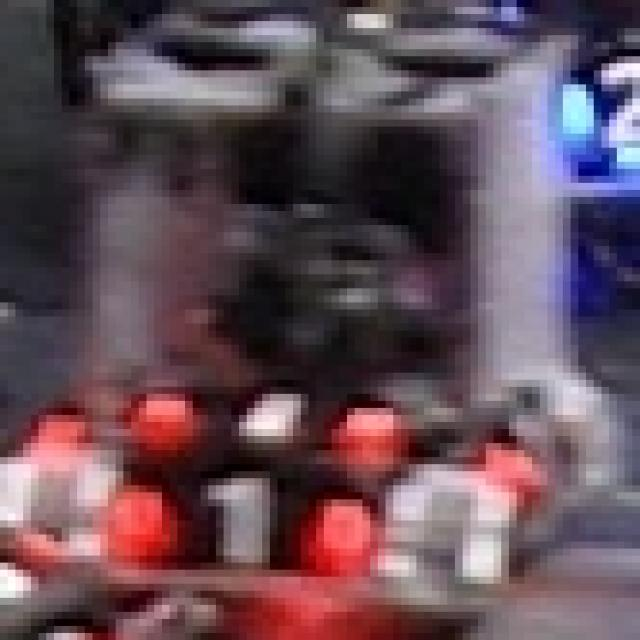R1: (108, 471, 378, 570), (131, 387, 401, 457)
